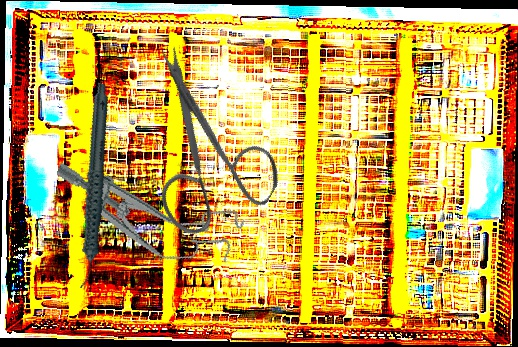Handpiece: (35, 82, 150, 290)
Iris Scissors: (87, 40, 313, 262)
Speculum: (41, 148, 248, 281)
